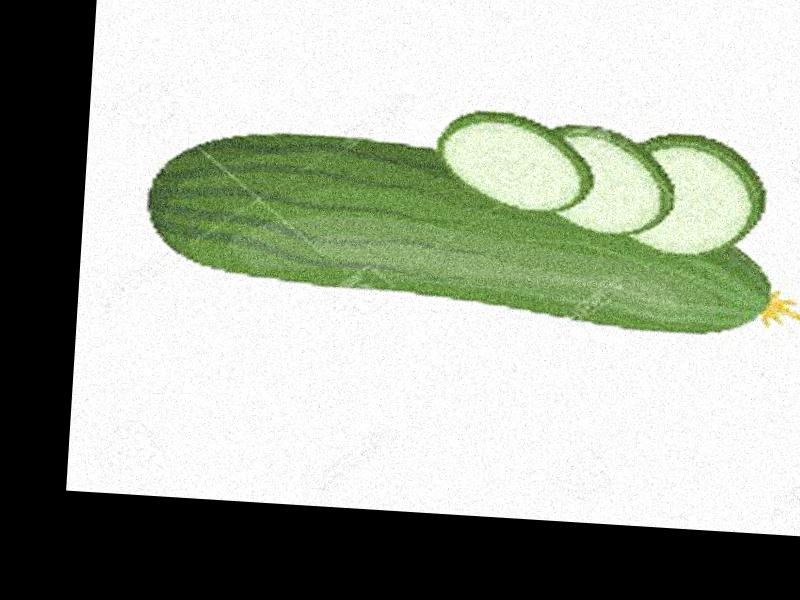Cucumber: (137, 124, 800, 340)
